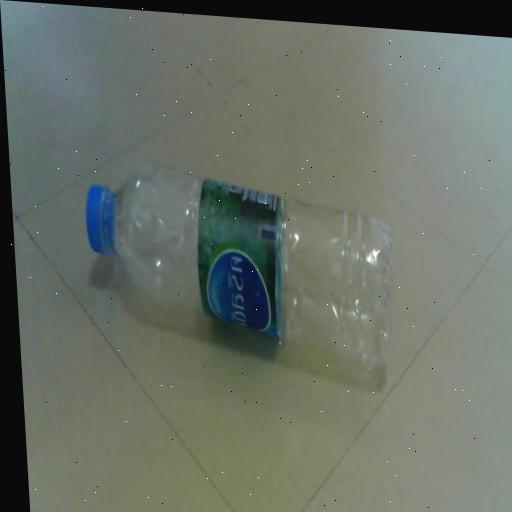bottle: (53, 115, 451, 412)
